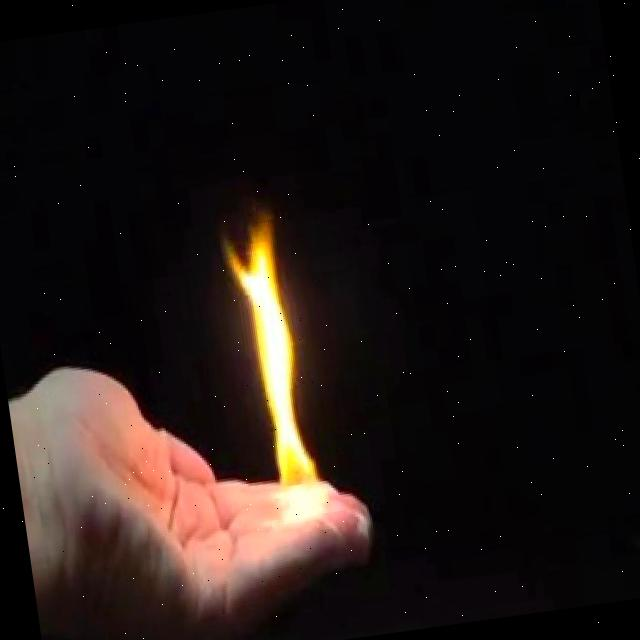fire: (226, 180, 336, 540)
